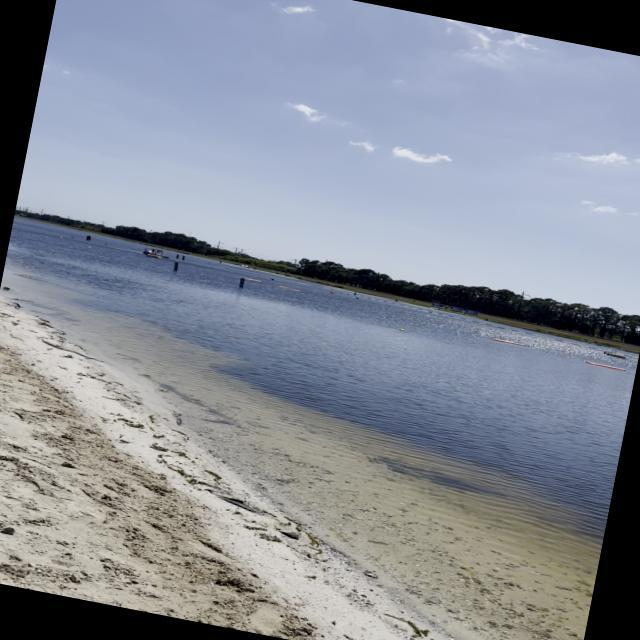buoy: (398, 327, 407, 334), (328, 292, 336, 296), (355, 296, 360, 300), (271, 278, 276, 282)
